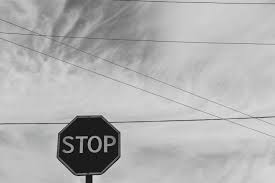stop sign: (57, 115, 121, 177)
